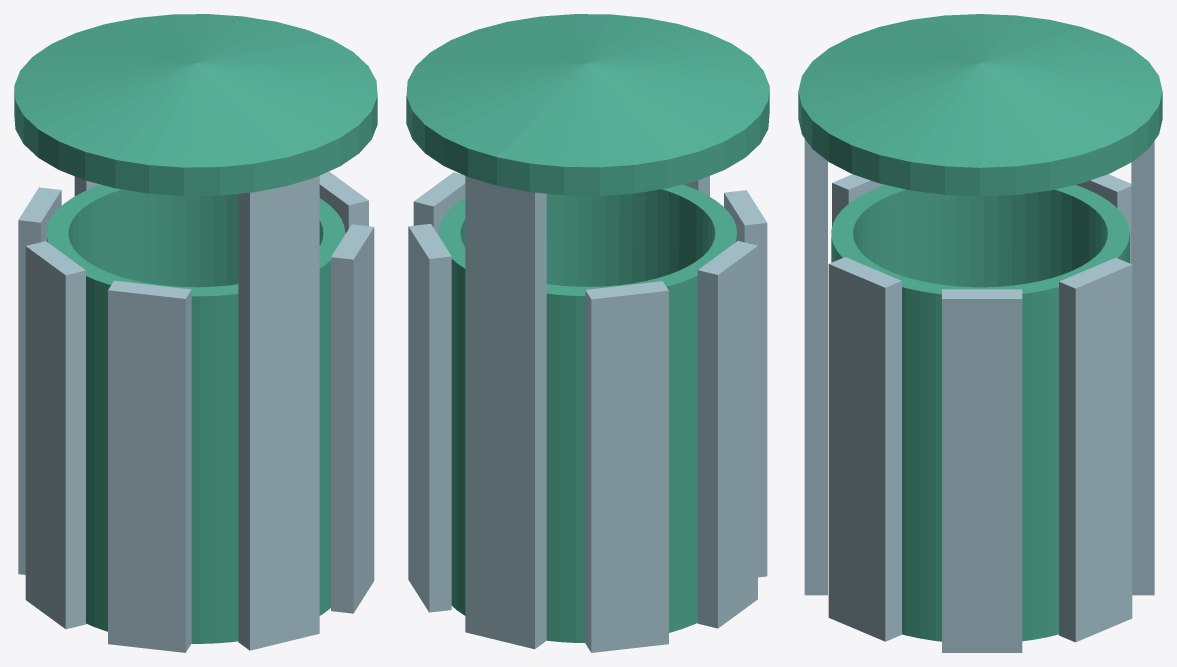
Rendered from Straatobject3_Tinka(prullenbak).fbx.
3 renders of one model, left to right at view 1: azimuth 30°, elevation 25°; view 2: azimuth 150°, elevation 25°; view 3: azimuth 270°, elevation 25°, orthographic.
Parts seen in each view (by area): view 1: Cylinder; view 2: Cylinder; view 3: Cylinder.
Part boxes in pixels (box(x1,y1,x2,y2)): Cylinder: box(14, 14, 377, 652); Cylinder: box(406, 14, 769, 652); Cylinder: box(798, 14, 1162, 652).
Size of the model in its own units: 244 by 383 by 244.
